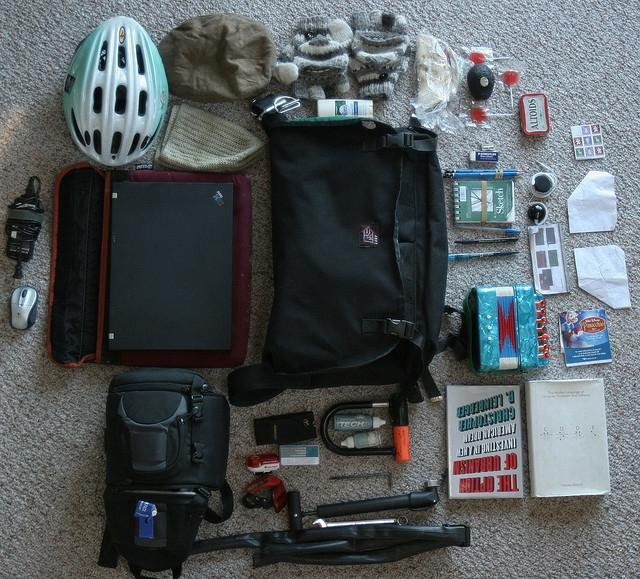avocado: (467, 64, 494, 102)
